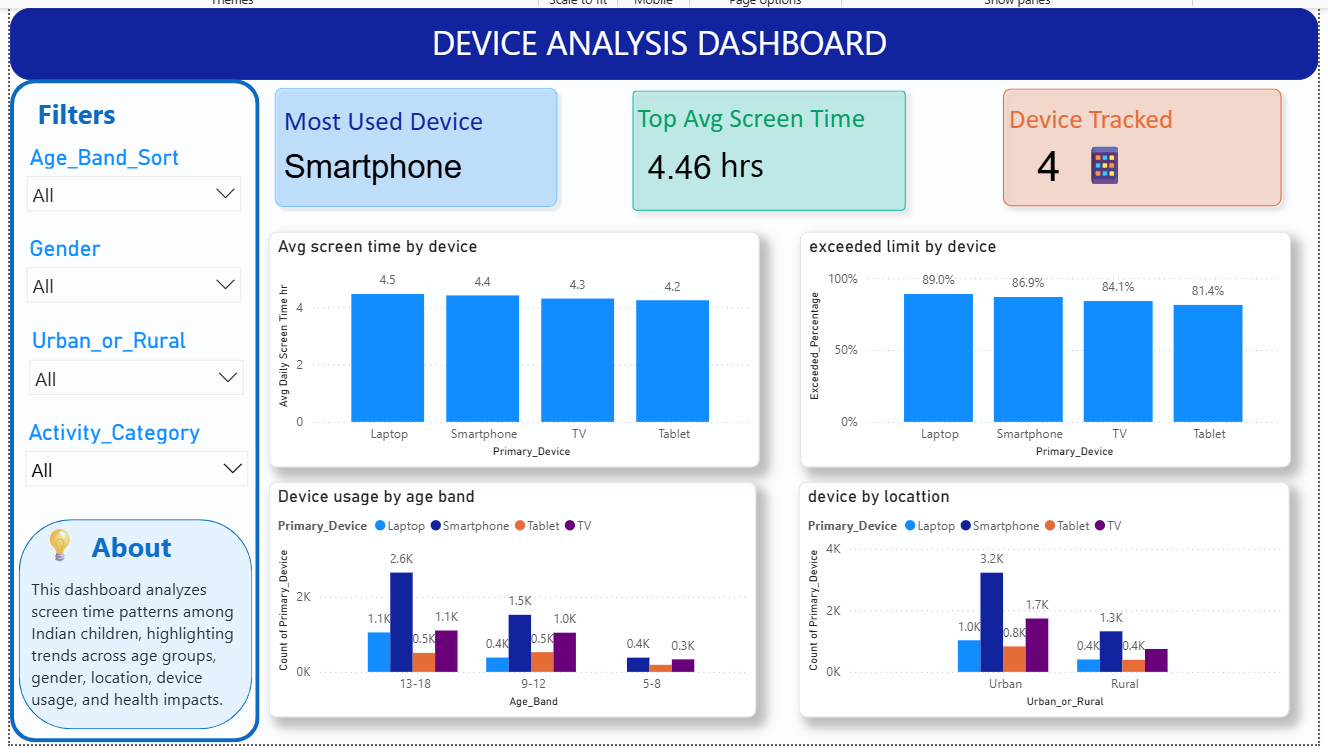

The dashboard page shown, as its layout file describes it:
{"tool":"powerbi","page":{"name":"Device Analysis","canvas":[1280,720],"ordinal":1},"visuals":[{"type":"textbox","box":[0,0,1280,70],"z":0},{"type":"shape","box":[0,69.9,244.3,648.6],"z":0,"group":"g1"},{"type":"group","id":"g1","title":"Group 1","box":[0,69.9,243.7,648.6],"z":1000},{"type":"slicer","fields":{"Values":["ScreenSense_Cleaned_Dataset.Age_Band_Sort"]},"box":[6,128.8,230,90],"z":1000,"group":"g1"},{"type":"slicer","fields":{"Values":["ScreenSense_Cleaned_Dataset.Gender"]},"box":[5.7,218.5,230,90],"z":2000,"group":"g1"},{"type":"slicer","fields":{"Values":["ScreenSense_Cleaned_Dataset.Activity_Category"]},"box":[5.4,397.8,238.3,89.6],"z":2000},{"type":"shape","box":[252.5,71.1,290.6,130.7],"z":3000},{"type":"slicer","fields":{"Values":["ScreenSense_Cleaned_Dataset.Urban_or_Rural"]},"box":[8.6,308.5,230,90],"z":3000,"group":"g1"},{"type":"textbox","box":[21.4,79.9,115.7,48.6],"z":4000,"group":"g1"},{"type":"card","fields":{"Values":["ScreenSense_Cleaned_Dataset.Most Used Device"]},"box":[257.6,104,194.1,101.5],"z":4000},{"type":"shape","box":[961.8,69.8,290.6,133.2],"z":5000},{"type":"textbox","box":[15.7,551.3,211.4,152.9],"z":5000,"group":"g1"},{"type":"textbox","box":[262.6,88.8,206.8,49.5],"z":6000},{"type":"textbox","box":[21.4,498.5,164.3,52.9],"z":6000,"group":"g1"},{"type":"shape","box":[597.6,69.8,289.3,139.6],"z":7000},{"type":"card","fields":{"Values":["ScreenSense_Cleaned_Dataset.Top_Device_Avg_ScreenTime"]},"box":[568,114.7,175.6,80.6],"z":8000},{"type":"textbox","box":[609.2,86,240.1,46.6],"z":9000},{"type":"textbox","box":[689.1,125.4,112.9,68.1],"z":10000},{"type":"textbox","box":[971.9,86.3,233.5,69.8],"z":11000},{"type":"card","fields":{"Values":["Count(ScreenSense_Cleaned_Dataset.Primary_Device)"]},"box":[955.4,111.7,123.1,82.5],"z":12000},{"type":"columnChart","title":"Avg screen time by device","fields":{"Category":["ScreenSense_Cleaned_Dataset.Primary_Device"],"Y":["Avg(ScreenSense_Cleaned_Dataset.Avg_Daily_Screen_Time_hr)"]},"box":[252.6,218.6,480.2,230],"z":13000},{"type":"columnChart","title":"exceeded limit by device","fields":{"Category":["ScreenSense_Cleaned_Dataset.Primary_Device"],"Y":["ScreenSense_Cleaned_Dataset.Exceeded_Percentage"]},"box":[772.2,218.6,480.2,230],"z":14000},{"type":"clusteredColumnChart","title":"Device usage by age band","fields":{"Category":["ScreenSense_Cleaned_Dataset.Age_Band"],"Series":["ScreenSense_Cleaned_Dataset.Primary_Device"],"Y":["CountNonNull(ScreenSense_Cleaned_Dataset.Primary_Device)"]},"box":[253.3,463.3,476.7,230],"z":15000},{"type":"clusteredColumnChart","title":"device by locattion","fields":{"Category":["ScreenSense_Cleaned_Dataset.Urban_or_Rural"],"Y":["CountNonNull(ScreenSense_Cleaned_Dataset.Primary_Device)"],"Series":["ScreenSense_Cleaned_Dataset.Primary_Device"]},"box":[772,463,480,230],"z":16000},{"type":"textbox","box":[1040.4,121.8,85,73.6],"z":16001}]}

Visuals, with their boxes on the page's 1280x720 design canvas (x1, y1, x2, y2). These are canvas units, not pixel positions in the 1328x753 screenshot, which may show the page scaled, cropped or inside an application window:
textbox: [x1=0, y1=0, x2=1280, y2=70]
shape: [x1=0, y1=70, x2=244, y2=718]
"Group 1" group: [x1=0, y1=70, x2=244, y2=718]
slicer - ScreenSense_Cleaned_Dataset.Age_Band_Sort: [x1=6, y1=129, x2=236, y2=219]
slicer - ScreenSense_Cleaned_Dataset.Gender: [x1=6, y1=218, x2=236, y2=308]
slicer - ScreenSense_Cleaned_Dataset.Activity_Category: [x1=5, y1=398, x2=244, y2=487]
shape: [x1=252, y1=71, x2=543, y2=202]
slicer - ScreenSense_Cleaned_Dataset.Urban_or_Rural: [x1=9, y1=308, x2=239, y2=398]
textbox: [x1=21, y1=80, x2=137, y2=128]
card - ScreenSense_Cleaned_Dataset.Most Used Device: [x1=258, y1=104, x2=452, y2=206]
shape: [x1=962, y1=70, x2=1252, y2=203]
textbox: [x1=16, y1=551, x2=227, y2=704]
textbox: [x1=263, y1=89, x2=469, y2=138]
textbox: [x1=21, y1=498, x2=186, y2=551]
shape: [x1=598, y1=70, x2=887, y2=209]
card - ScreenSense_Cleaned_Dataset.Top_Device_Avg_ScreenTime: [x1=568, y1=115, x2=744, y2=195]
textbox: [x1=609, y1=86, x2=849, y2=133]
textbox: [x1=689, y1=125, x2=802, y2=194]
textbox: [x1=972, y1=86, x2=1205, y2=156]
card - Count(ScreenSense_Cleaned_Dataset.Primary_Device): [x1=955, y1=112, x2=1078, y2=194]
"Avg screen time by device" columnChart: [x1=253, y1=219, x2=733, y2=449]
"exceeded limit by device" columnChart: [x1=772, y1=219, x2=1252, y2=449]
"Device usage by age band" clusteredColumnChart: [x1=253, y1=463, x2=730, y2=693]
"device by locattion" clusteredColumnChart: [x1=772, y1=463, x2=1252, y2=693]
textbox: [x1=1040, y1=122, x2=1125, y2=195]
